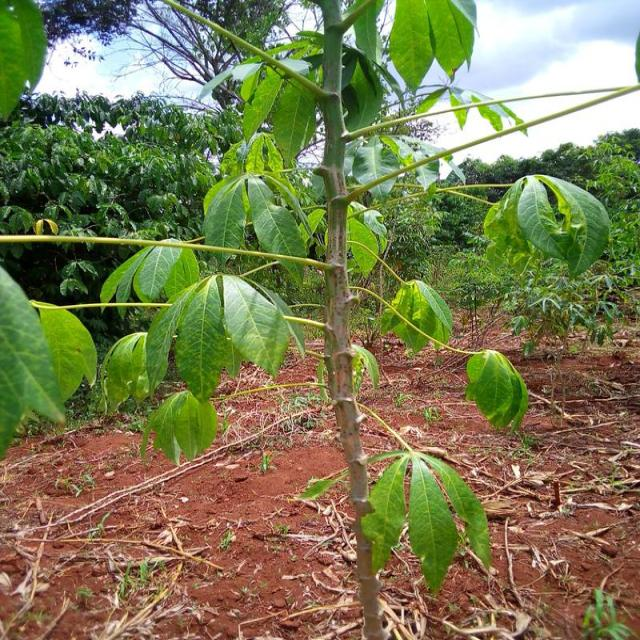cassava leaf: (146, 271, 292, 402), (1, 264, 68, 458), (517, 172, 612, 278), (381, 278, 454, 356), (466, 348, 530, 432)
